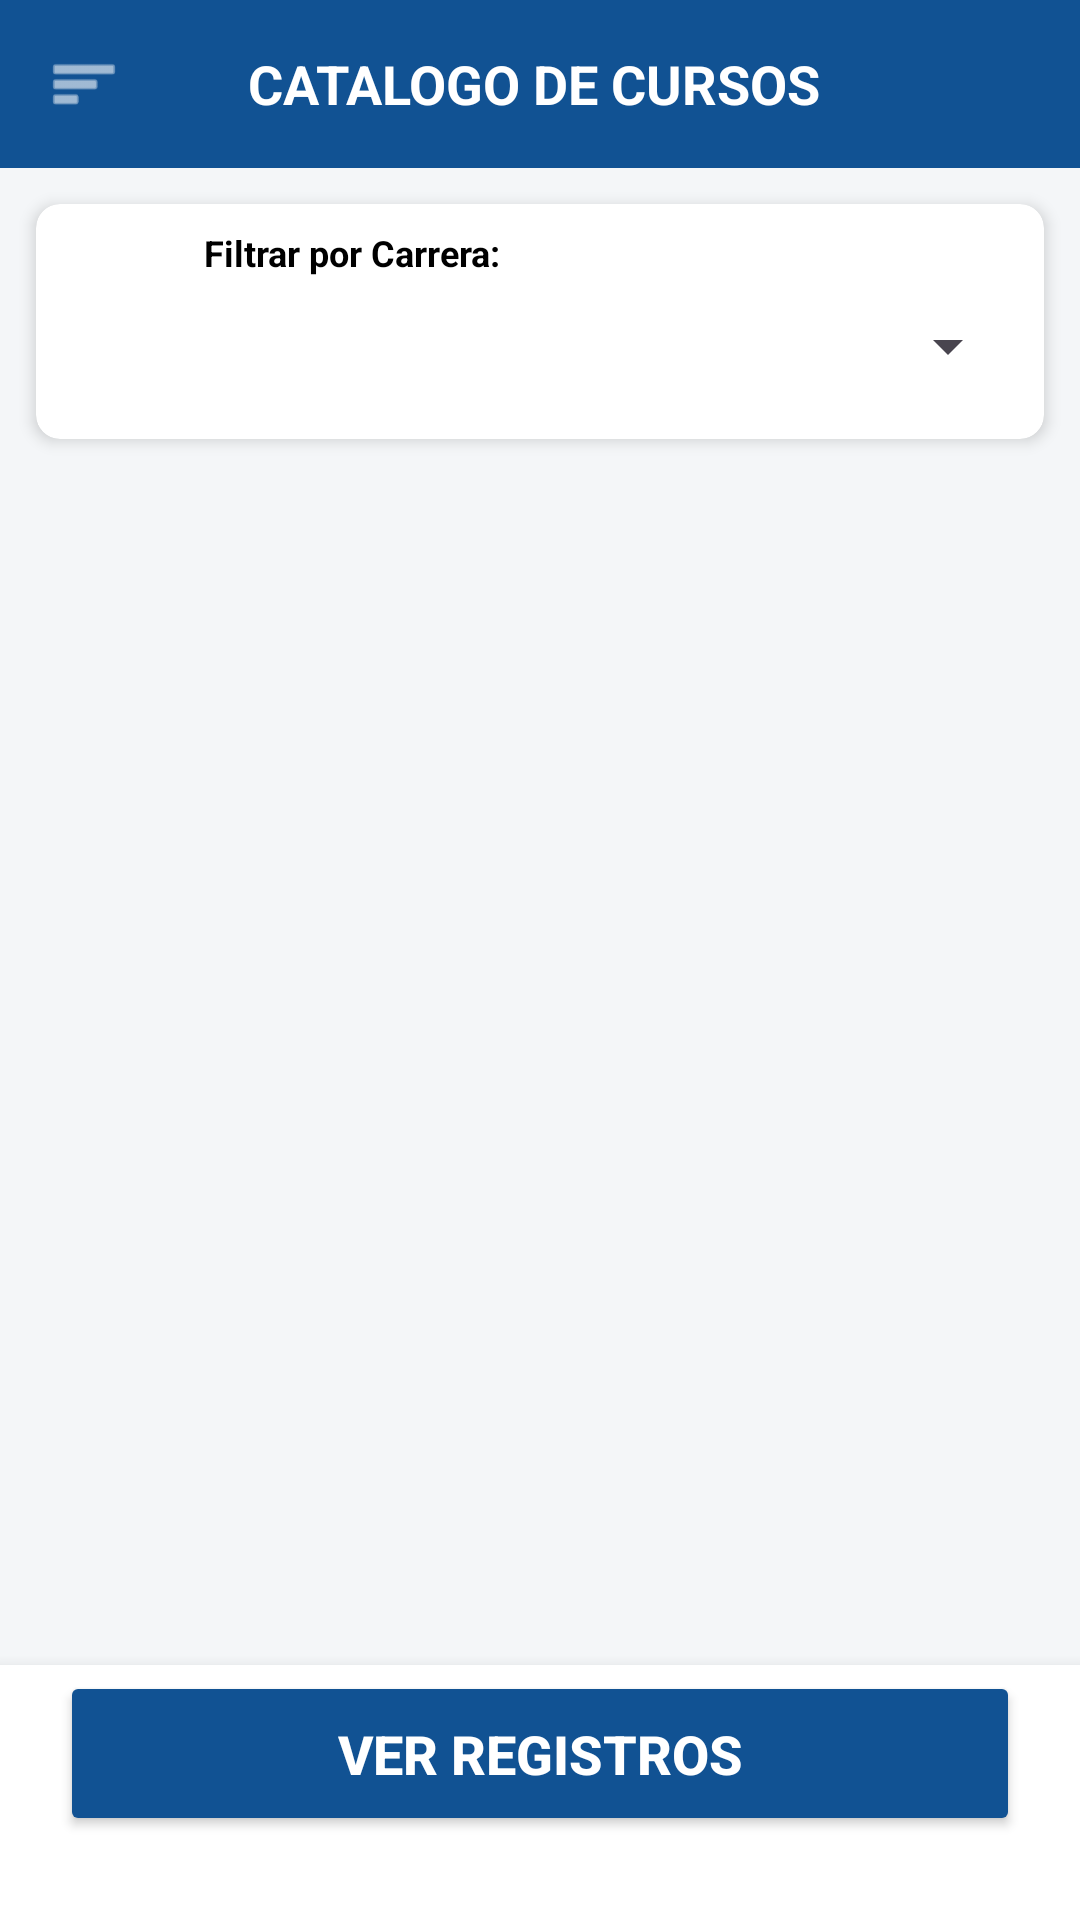

Icons on this 1080 x 1920 Android screen, each with the point to tap as point (x, y):
sort by size: point (84, 84)
